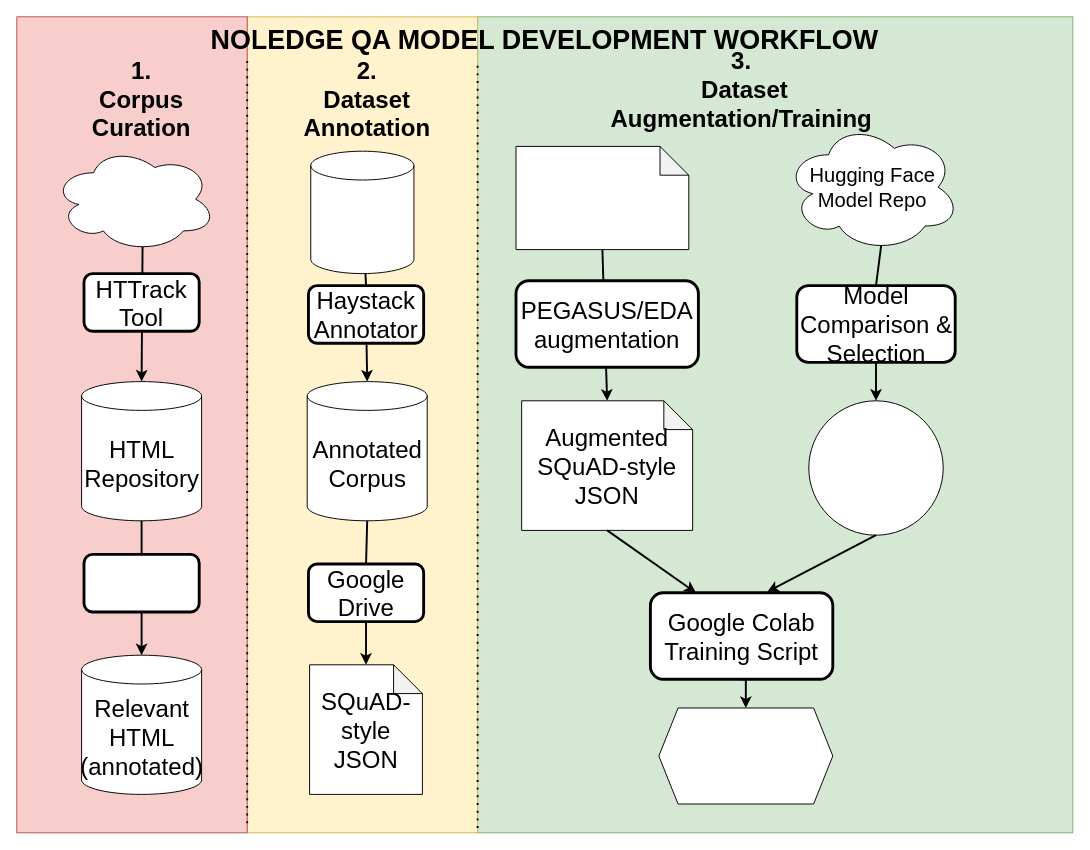
Image size: 1090x850. Some labels were removed from this diagram. The shapes that lost their labels are listed below. From the top down, each one's centre as x and y in pixels, then its label:
point 134,198: CS FSU Webpages
point 362,212: Relevant HTML
point 602,197: SQuAD-style dataset JSON
point 875,467: Pretrained DistilBERT
point 141,582: ScraPy/ regexes
point 745,755: Finetuned Extractive QA Model
